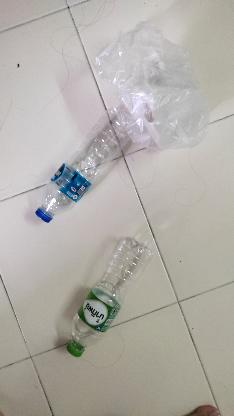Plastic Bag: (90, 15, 216, 153)
Plastic Bottle: (20, 107, 134, 228), (60, 236, 154, 360)
